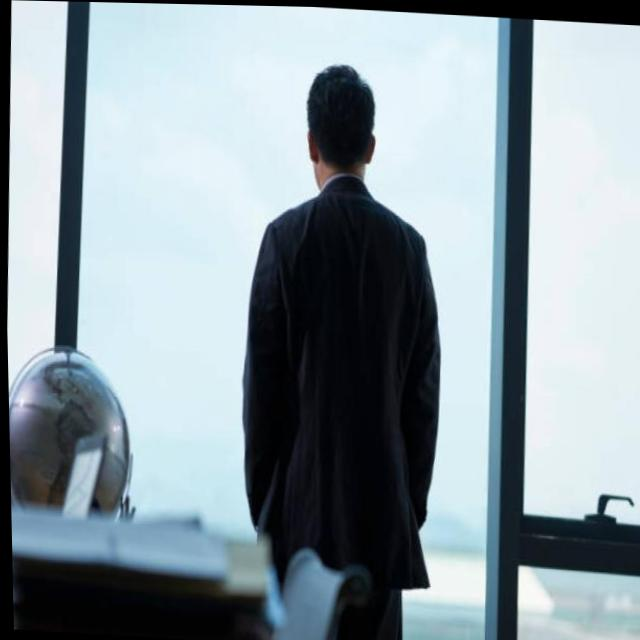no helmet: (287, 48, 394, 211)
